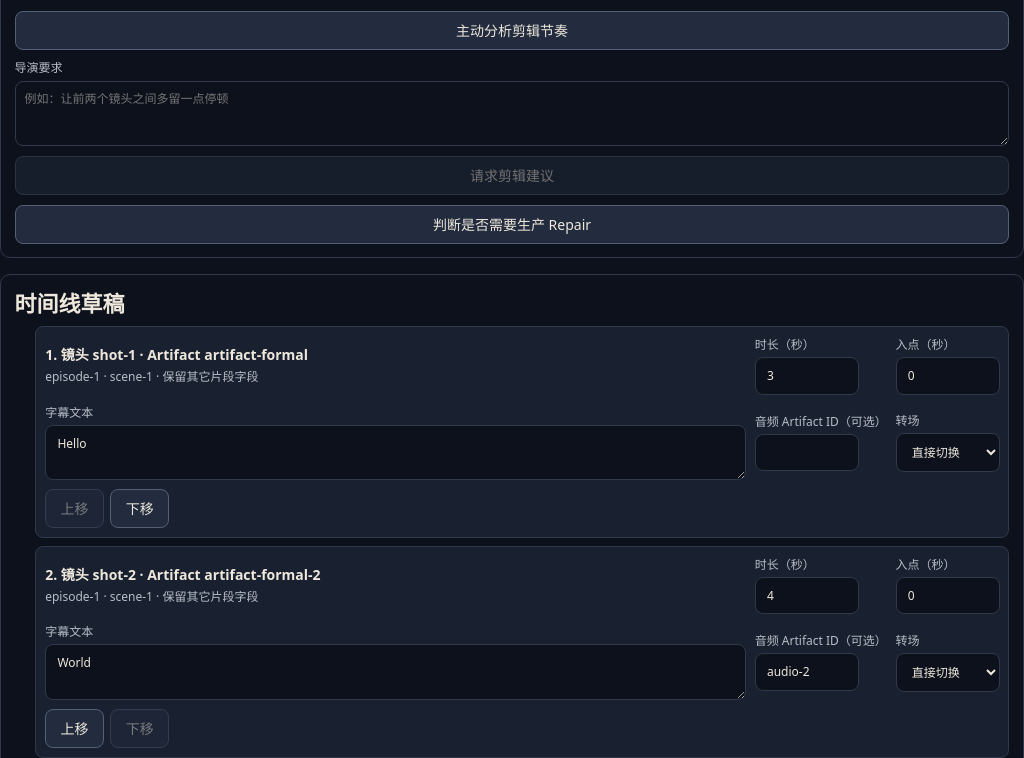
Test: EditingWorkspace › edits only local clip order/duration until an explicit save
(page scrolled)
Replace the text in the number field named "镜头 1 时长" with "2.25" at (807, 376), box left=755, top=357, right=859, bottom=395
(page scrolled)
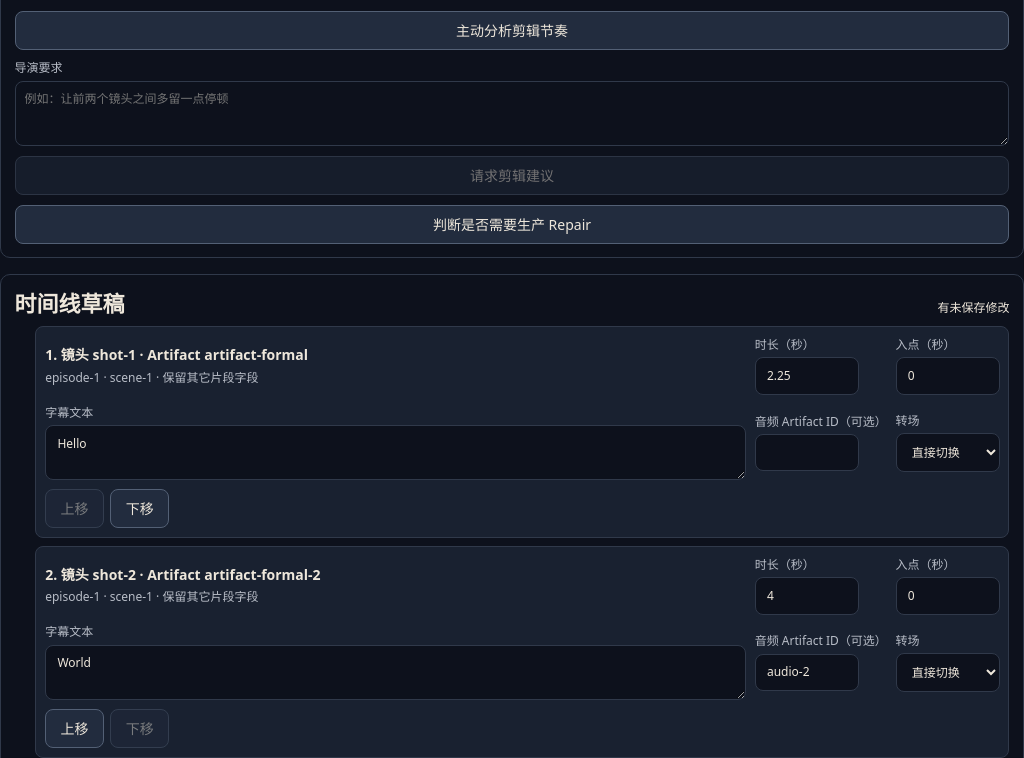
Click the button with test id "move-clip-down-0" at (140, 509), box left=110, top=489, right=169, bottom=528
(page scrolled)
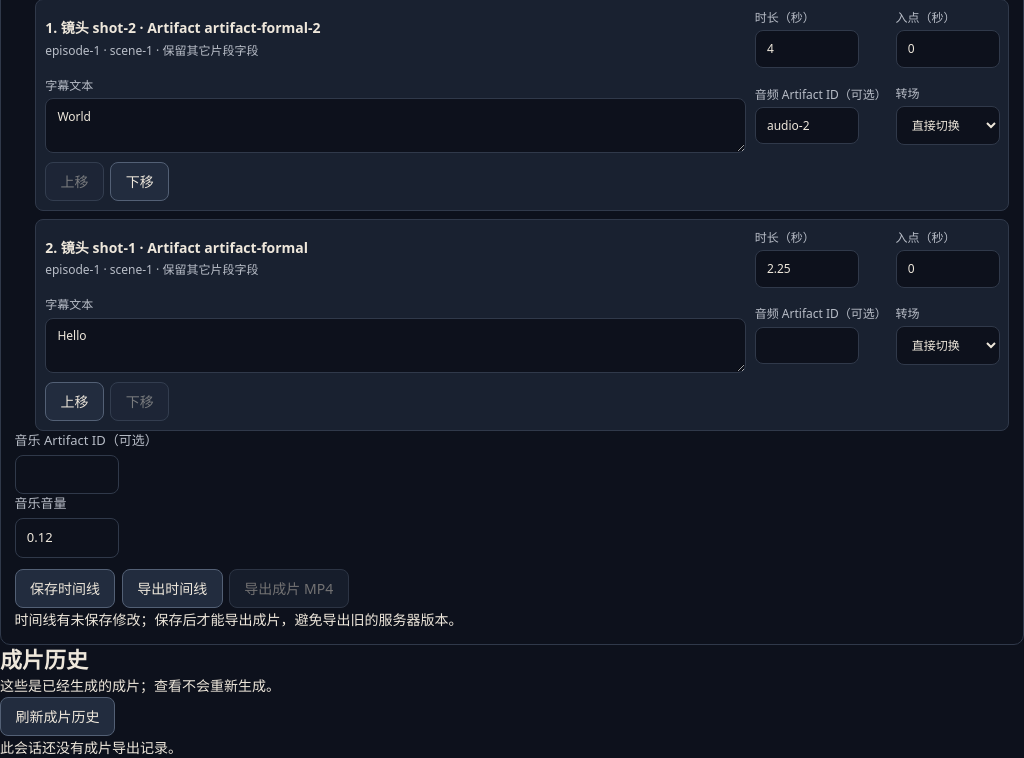
Now the button with test id "save-edit-timeline" is enabled, box left=15, top=569, right=115, bottom=608
Now the 2nd number field showing "2.25" is shown, box left=755, top=250, right=859, bottom=288
